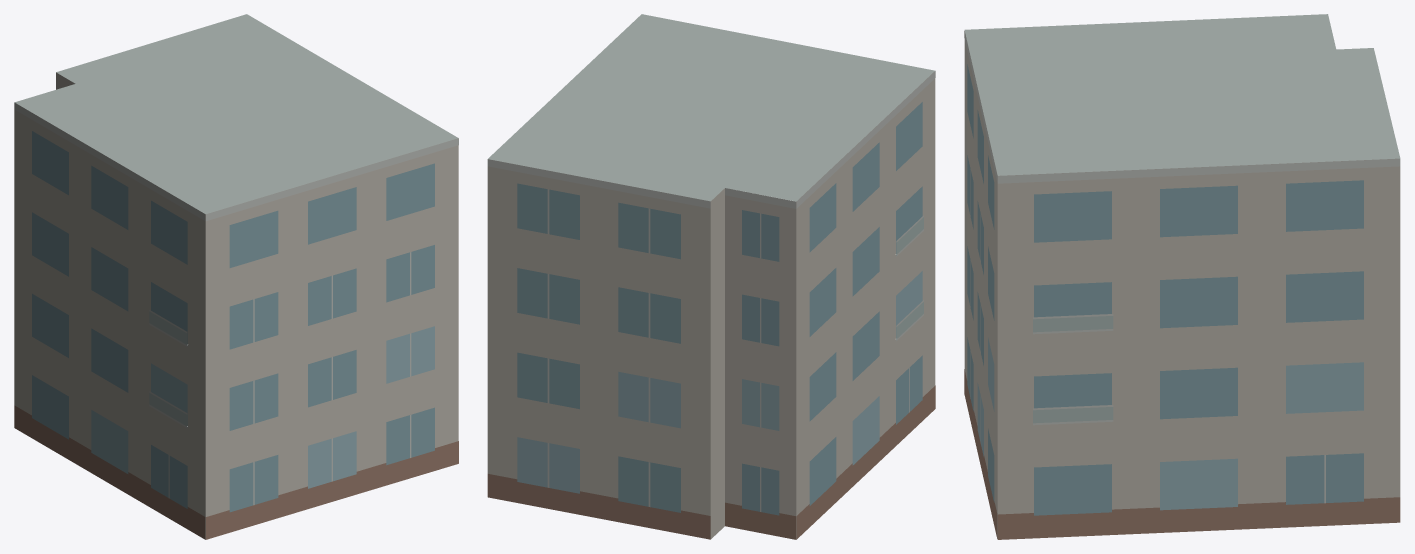
The model's file is survey-upis-32978937.glb.
The picture shows the model from 3 angles, left to right: view 1: azimuth 30°, elevation 25°; view 2: azimuth 150°, elevation 25°; view 3: azimuth 270°, elevation 25°; orthographic projection. The views are drawn at different scales.
Visible parts, largest first — view 1: survey-upis-32978937.tmp; view 2: survey-upis-32978937.tmp; view 3: survey-upis-32978937.tmp.
Boxes of the visible parts, x1,y1,x2,y2 form: survey-upis-32978937.tmp: [14, 14, 458, 539]; survey-upis-32978937.tmp: [487, 14, 935, 539]; survey-upis-32978937.tmp: [964, 14, 1400, 539].
Size of the model in its own units: 10.78 by 11.29 by 12.27.
